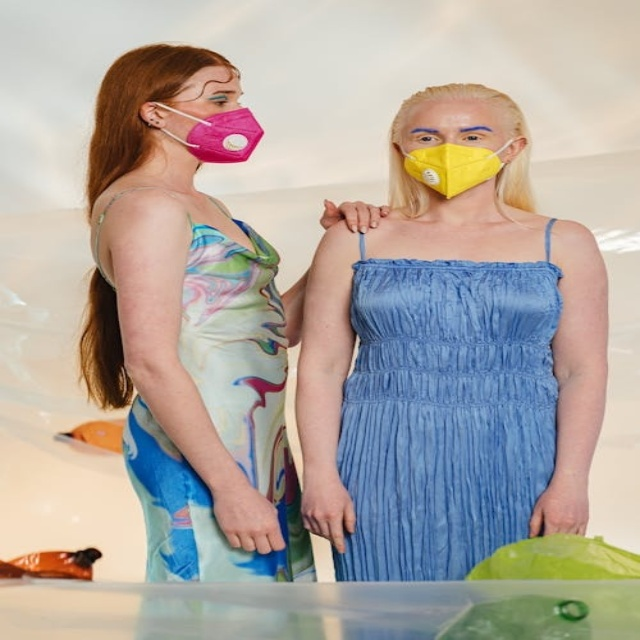Mascara: (150, 99, 264, 163), (402, 139, 512, 199)
Sin_gafas: (401, 122, 500, 144), (180, 88, 250, 109)
Sin_guantes: (197, 477, 288, 556), (297, 474, 362, 555), (524, 485, 590, 542)
